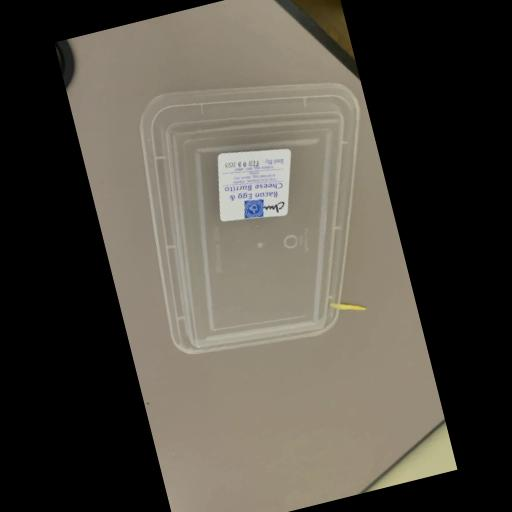rigid_plastic_lid: (121, 60, 406, 362)
